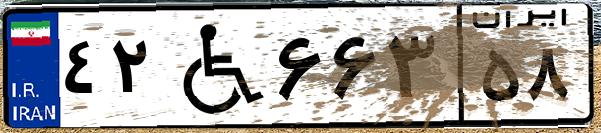2: (110, 28, 158, 98)
3: (385, 28, 445, 110)
4: (57, 26, 110, 100)
5: (475, 38, 525, 113)
6: (270, 28, 330, 110), (330, 28, 385, 110)
8: (525, 38, 570, 115)
ژ (معلولین و جانبازان): (158, 12, 270, 120)
